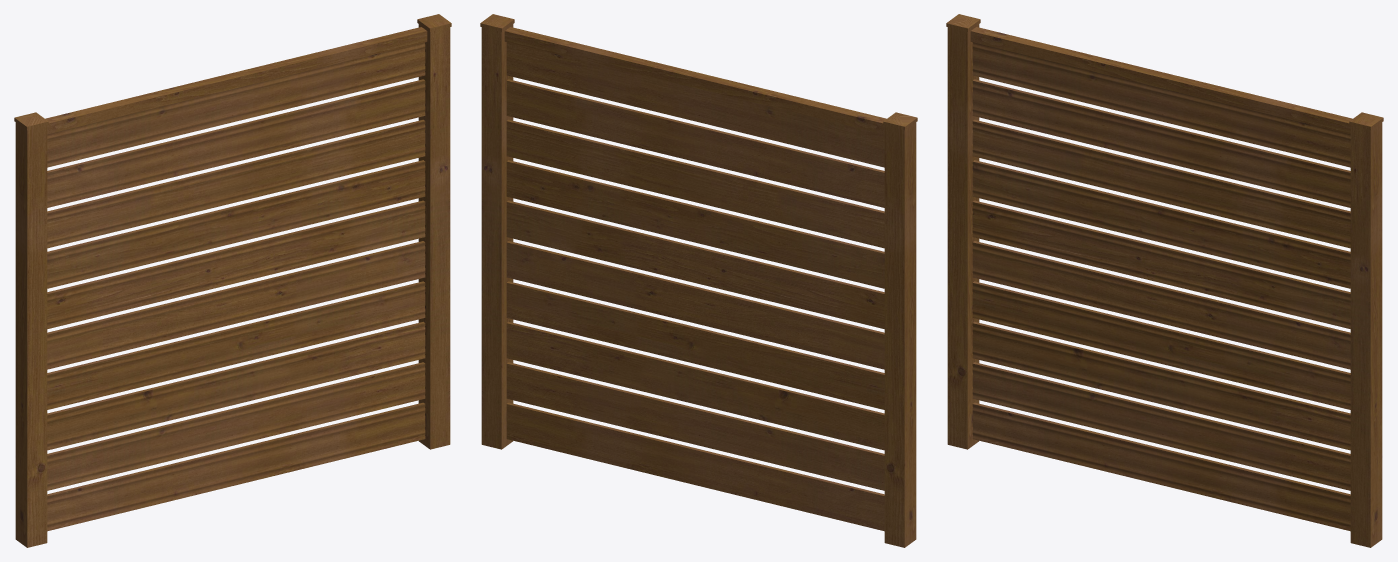
Rendered from huubistraight_h1200_naturalpine.fbx.
3 views of the same model, side by side, from view 1: azimuth 30°, elevation 25°; view 2: azimuth 150°, elevation 25°; view 3: azimuth 330°, elevation 25° (orthographic).
Parts seen in each view (by area): view 1: huubistraight_h1200_darkpine.002; view 2: huubistraight_h1200_darkpine.002; view 3: huubistraight_h1200_darkpine.002.
Part boxes in pixels (box(x1,y1,x2,y2)): huubistraight_h1200_darkpine.002: box(14, 14, 451, 547); huubistraight_h1200_darkpine.002: box(480, 14, 917, 547); huubistraight_h1200_darkpine.002: box(946, 14, 1383, 547).
Bounding box in the file's own units: 126 × 120 × 6.5.
1 material, 1 textured.
